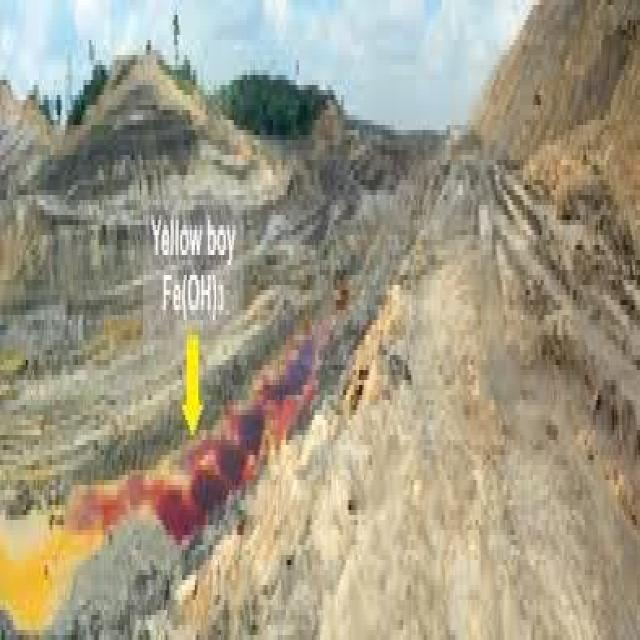yellow_boy: (0, 335, 318, 625)
